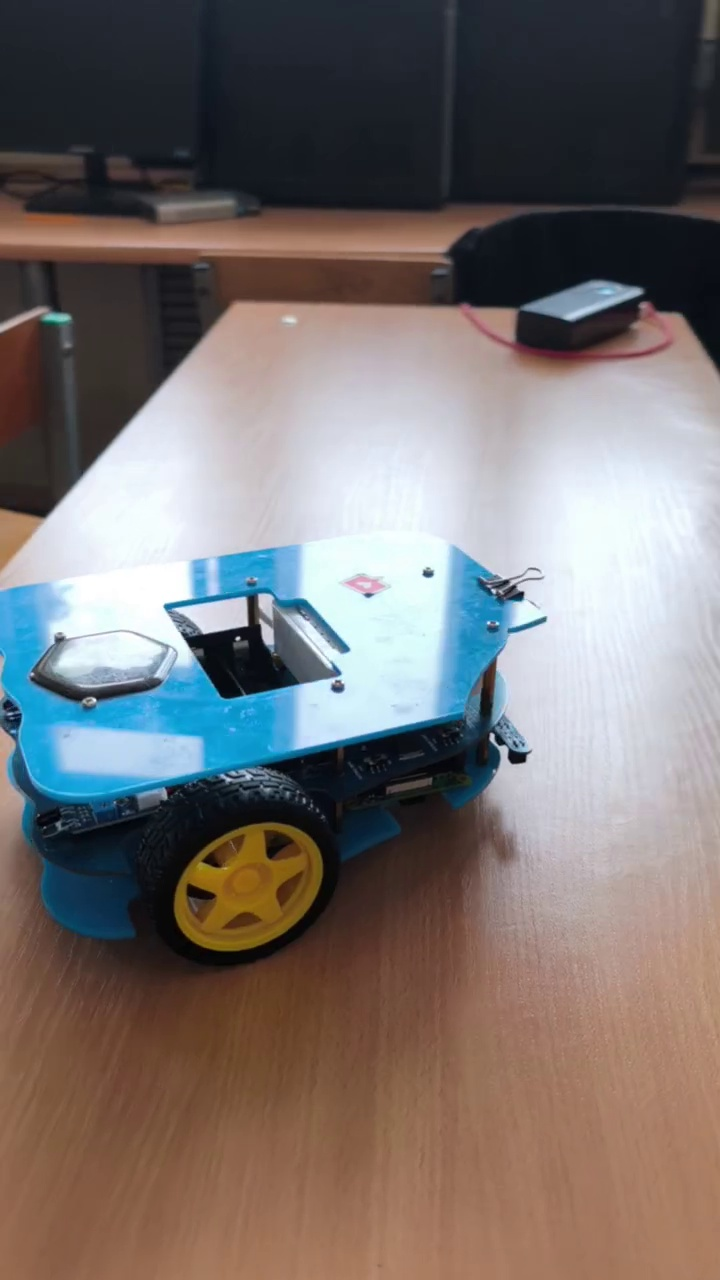robot: (1, 530, 571, 968)
